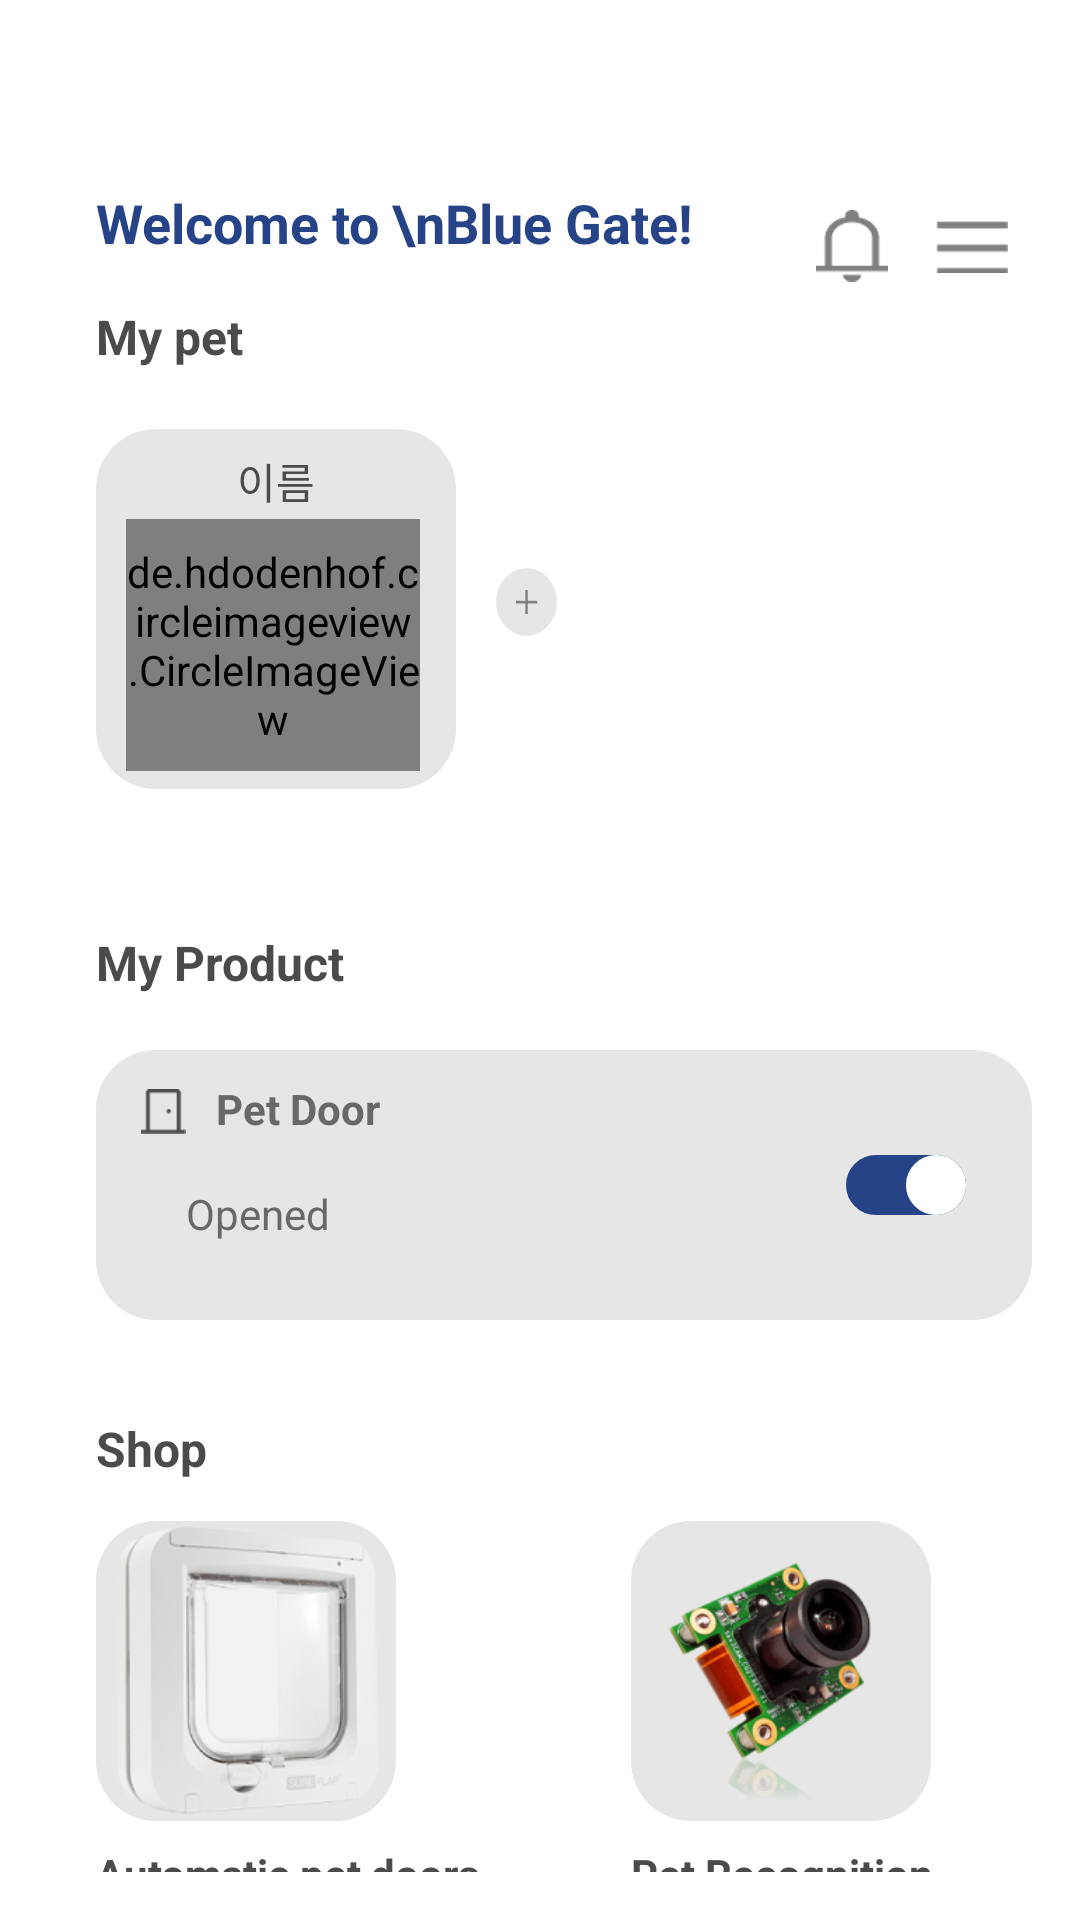

Named icons in this screenshot (1080w x 1920h) and their centers, [x,y]:
menu: [972,247]
notice: [852,246]
